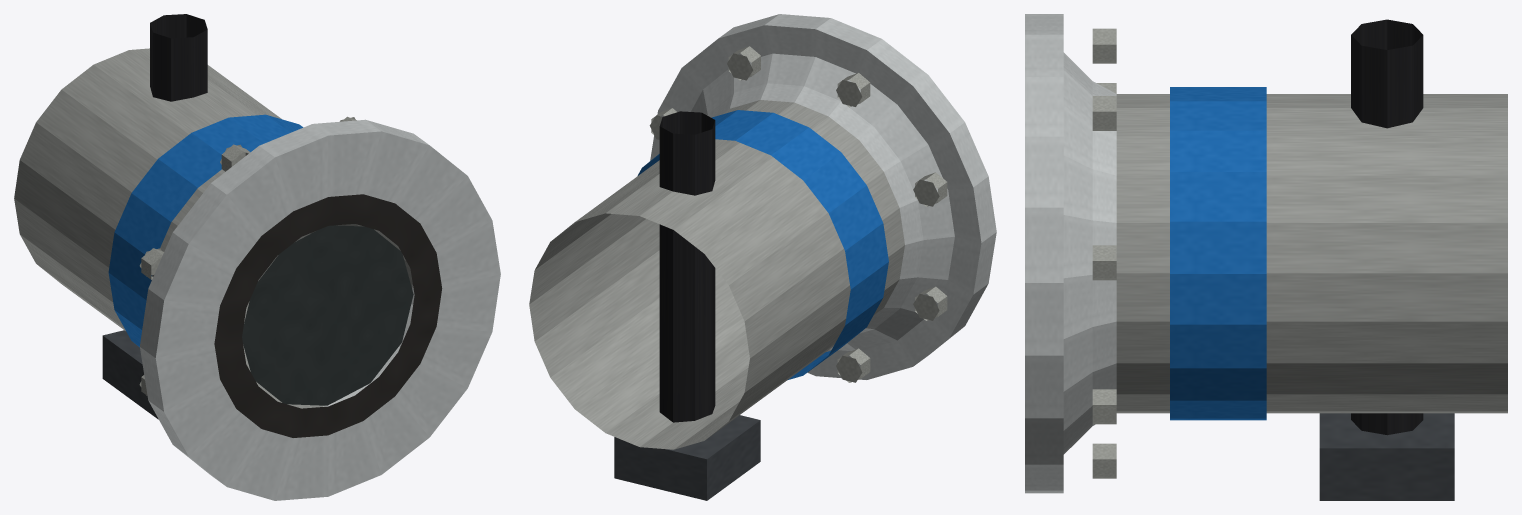
The model's file is cell_22.obj.
3 views of the same model, side by side, from view 1: azimuth 30°, elevation 25°; view 2: azimuth 150°, elevation 25°; view 3: azimuth 270°, elevation 25° (orthographic). The views are drawn at different scales.
Bounding box in the file's own units: 1 × 1 × 1.
